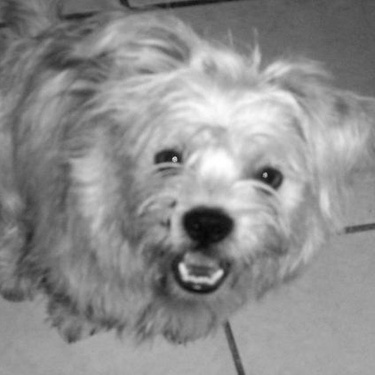dog: (1, 1, 366, 348)
